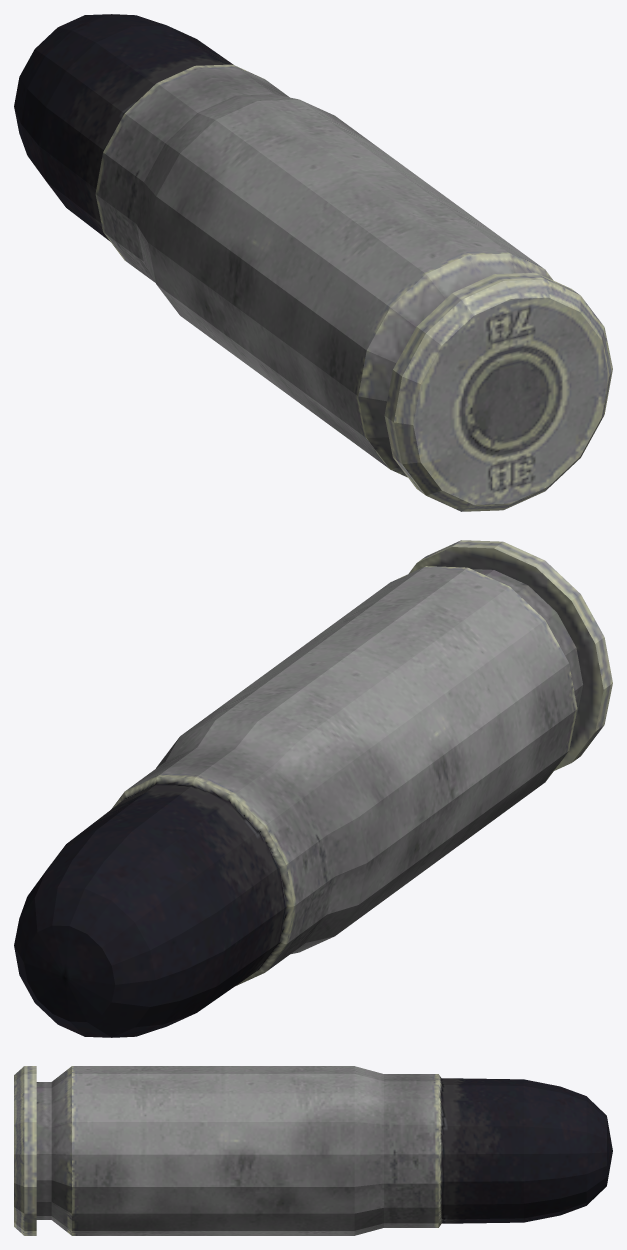
3 renders of one model, top to bottom at view 1: azimuth 30°, elevation 25°; view 2: azimuth 150°, elevation 25°; view 3: azimuth 270°, elevation 25°, orthographic. The views are drawn at different scales.
Visible parts, largest first — view 1: TW_573602322459776445391df1_PZ_Import; view 2: TW_573602322459776445391df1_PZ_Import; view 3: TW_573602322459776445391df1_PZ_Import.
Part boxes in pixels (x1,y1,x2,y2): TW_573602322459776445391df1_PZ_Import: [14, 14, 612, 511]; TW_573602322459776445391df1_PZ_Import: [14, 540, 612, 1037]; TW_573602322459776445391df1_PZ_Import: [14, 1066, 612, 1235].
Bounding box in the file's own units: 0.00575 × 0.0203 × 0.00575.
Materials: 1 (1 with a texture image).
